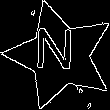N_S: (38, 30, 82, 82)
